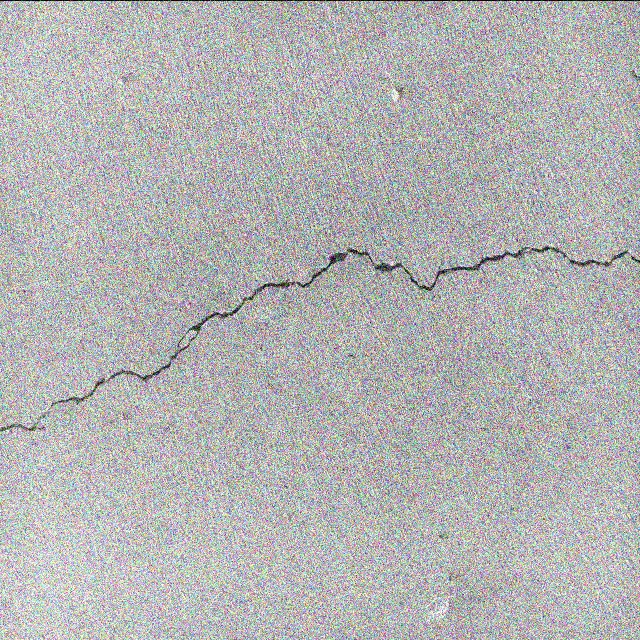SurfaceCrack: (0, 209, 639, 463)
